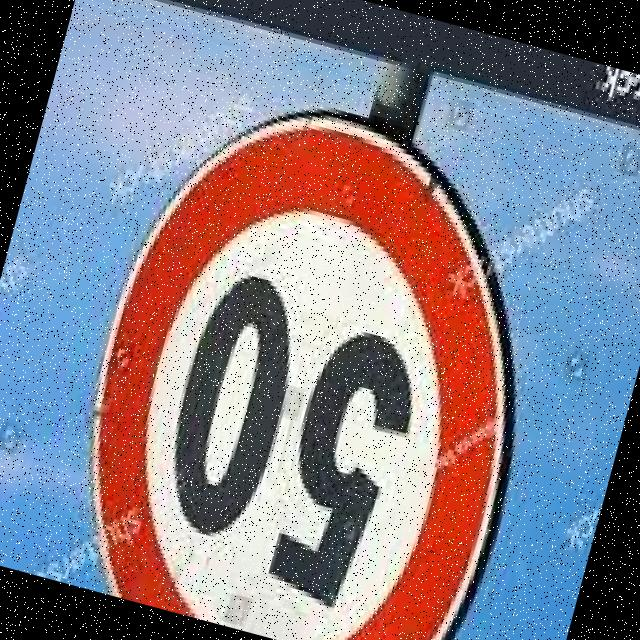speed_limit_50: (36, 74, 591, 640)
